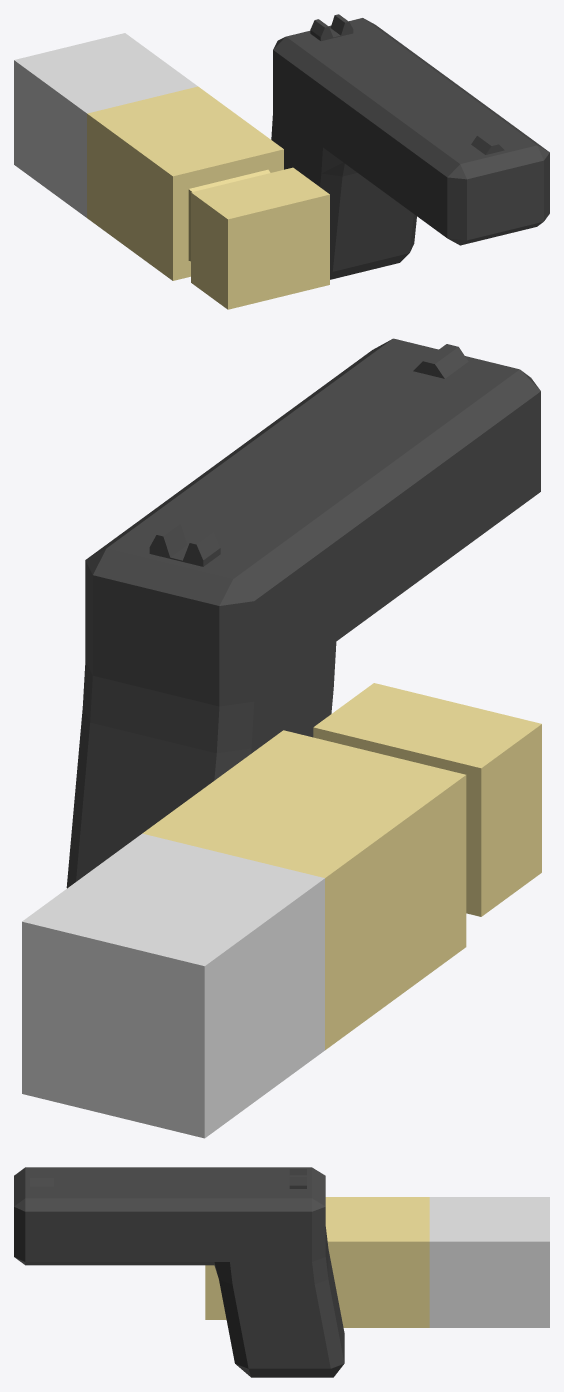
File: pistol.obj
3 renders of one model, top to bottom at view 1: azimuth 30°, elevation 25°; view 2: azimuth 150°, elevation 25°; view 3: azimuth 270°, elevation 25°, orthographic. The views are drawn at different scales.
Parts seen in each view (by area): view 1: cube5, Pistol; view 2: cube5, Pistol; view 3: Pistol, cube5.
Boxes of the visible parts, x1,y1,x2,y2 form: cube5: (14,33,329,309); Pistol: (271,14,549,279); cube5: (22,683,541,1138); Pistol: (66,338,540,888); Pistol: (14,1167,344,1377); cube5: (205,1197,549,1327).
Bounding box in the file's own units: 15.63 × 15.87 × 40.61.
Materials: 3 (3 with a texture image).
